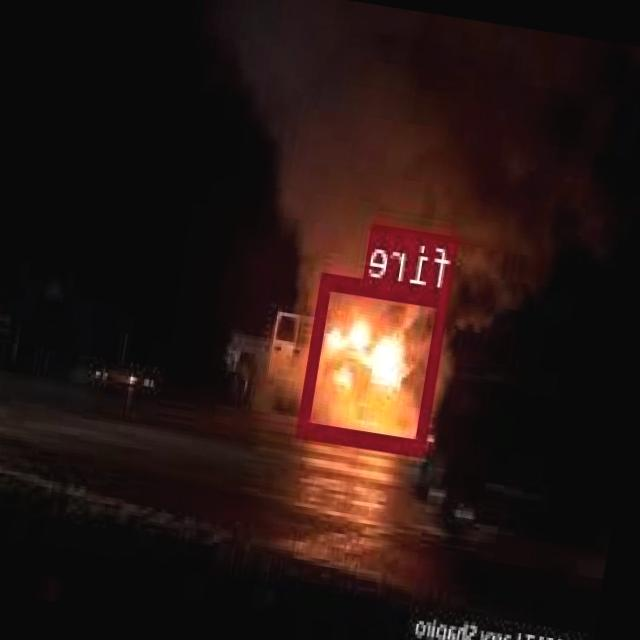fire: (298, 270, 453, 455)
